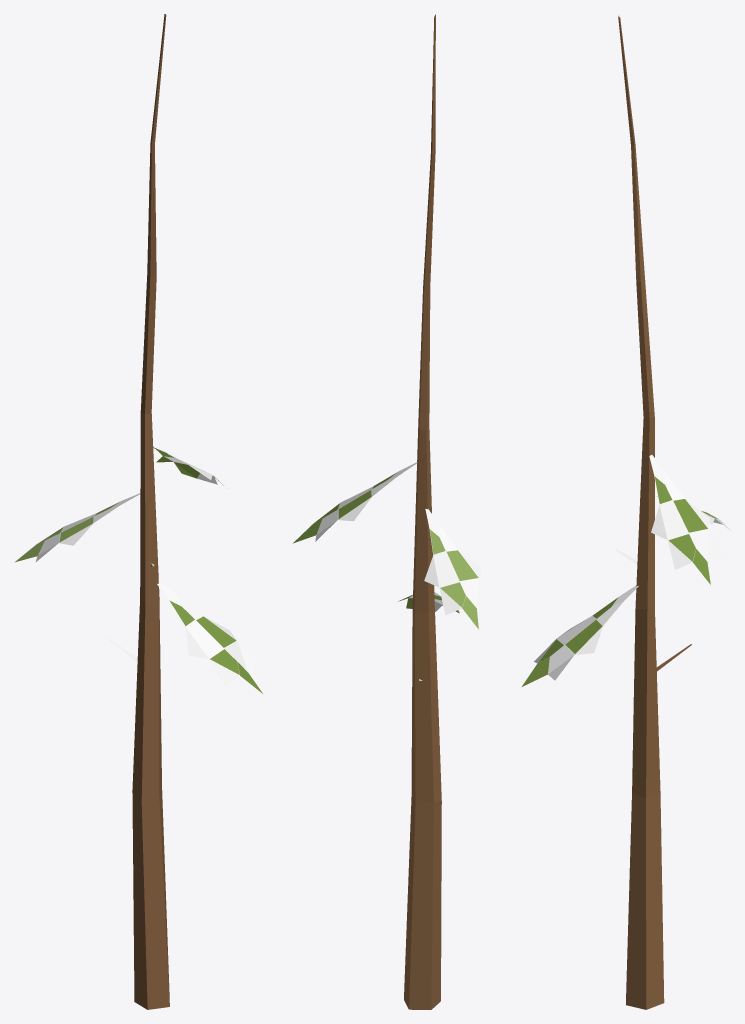
Rendered from Dead_Pine_Tree_l_Snow_05_LOD.fbx.
3 views of the same model, side by side, from view 1: azimuth 30°, elevation 25°; view 2: azimuth 150°, elevation 25°; view 3: azimuth 270°, elevation 25° (orthographic).
Parts seen in each view (by area): view 1: Dead_Pine_Tree_l_Snow_05_LOD0; view 2: Dead_Pine_Tree_l_Snow_05_LOD0; view 3: Dead_Pine_Tree_l_Snow_05_LOD0.
Part boxes in pixels (left/top/right/bottom): Dead_Pine_Tree_l_Snow_05_LOD0: left=15, top=14, right=262, bottom=1009; Dead_Pine_Tree_l_Snow_05_LOD0: left=293, top=14, right=492, bottom=1009; Dead_Pine_Tree_l_Snow_05_LOD0: left=521, top=14, right=729, bottom=1009.
Size of what is drawn, in the model's own units: 384 by 1862 by 358.
